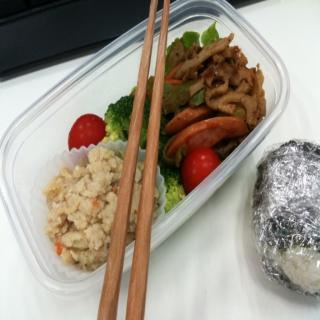tomato: (67, 114, 109, 150), (183, 145, 219, 183)
